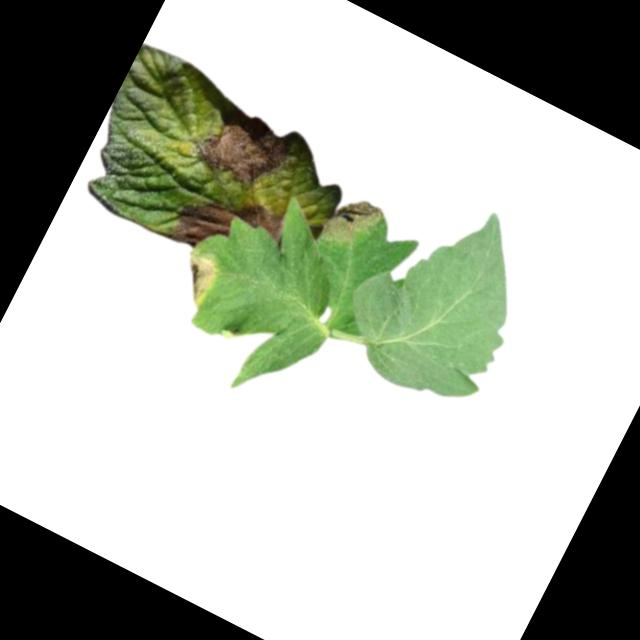Late_blight: (185, 93, 298, 196), (316, 183, 390, 262), (162, 186, 238, 258), (169, 248, 224, 309), (234, 196, 291, 244)
healthy: (323, 171, 554, 420)
